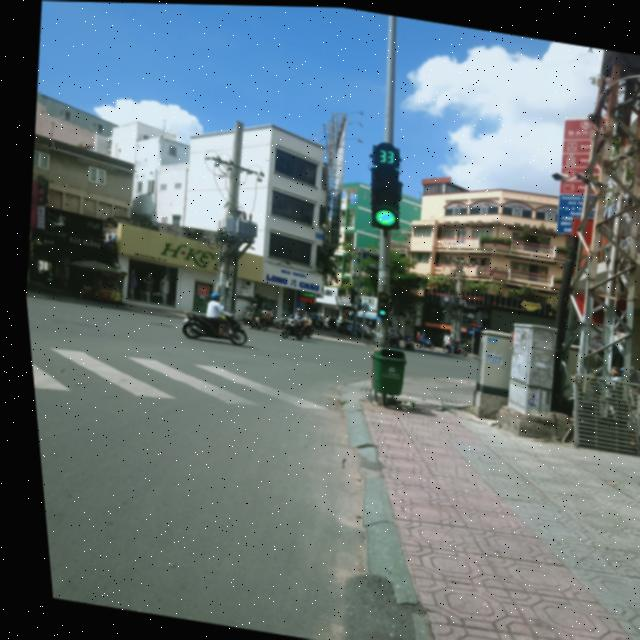Green: (352, 160, 412, 236), (361, 282, 391, 320)
